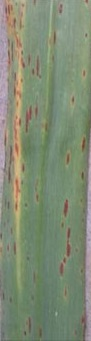Bercak Coklat: (59, 193, 72, 221), (60, 149, 75, 169), (22, 104, 32, 133), (77, 133, 89, 156), (31, 98, 43, 121), (54, 260, 68, 277), (62, 226, 76, 241), (61, 244, 76, 257), (68, 93, 80, 108), (19, 159, 29, 175), (34, 57, 42, 77), (56, 1, 65, 18), (78, 68, 90, 80)
